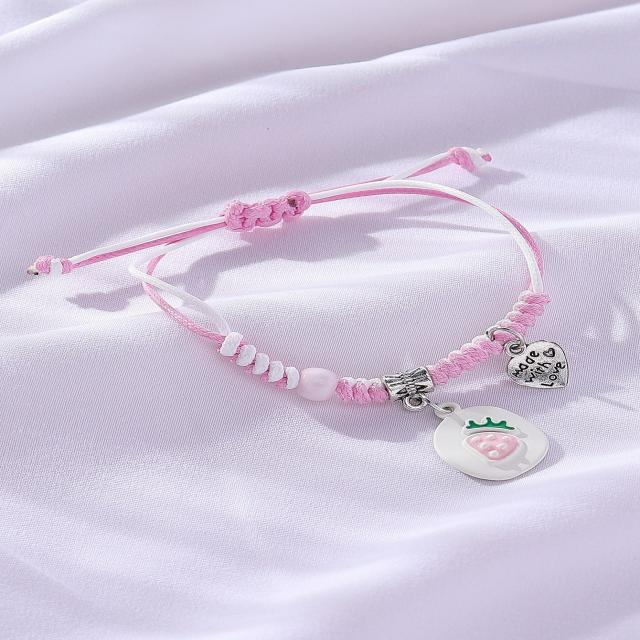bracelet: (0, 80, 640, 512)
